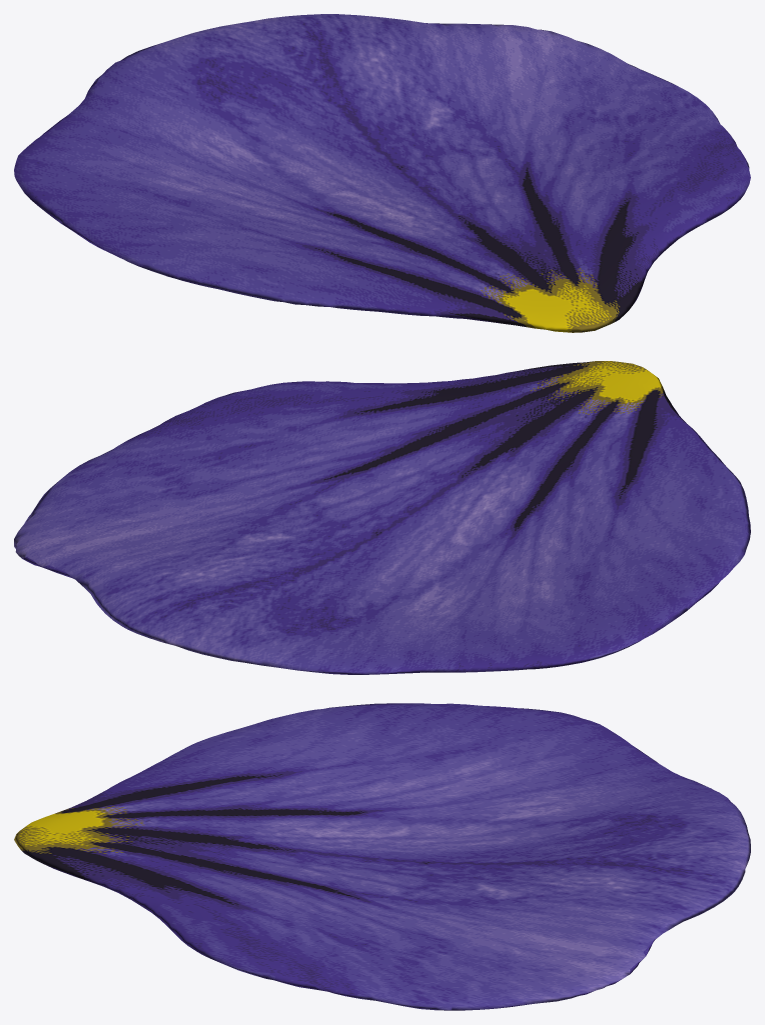
Rendered from petal.fbx.
The picture shows the model from 3 angles, top to bottom: view 1: azimuth 30°, elevation 25°; view 2: azimuth 150°, elevation 25°; view 3: azimuth 270°, elevation 25°; orthographic projection. The views are drawn at different scales.
Parts seen in each view (by area): view 1: petal1; view 2: petal1; view 3: petal1.
Boxes of the visible parts, box(x1,y1,x2,y2) form: petal1: box(14, 14, 750, 332); petal1: box(14, 361, 750, 674); petal1: box(14, 703, 750, 1010).
Bounding box in the file's own units: 142 × 8.82 × 158.
